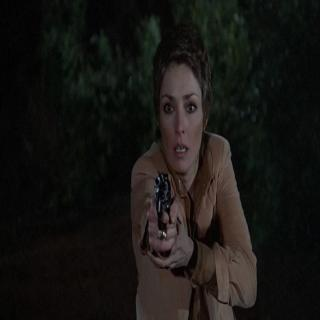gun: (152, 169, 175, 253)
